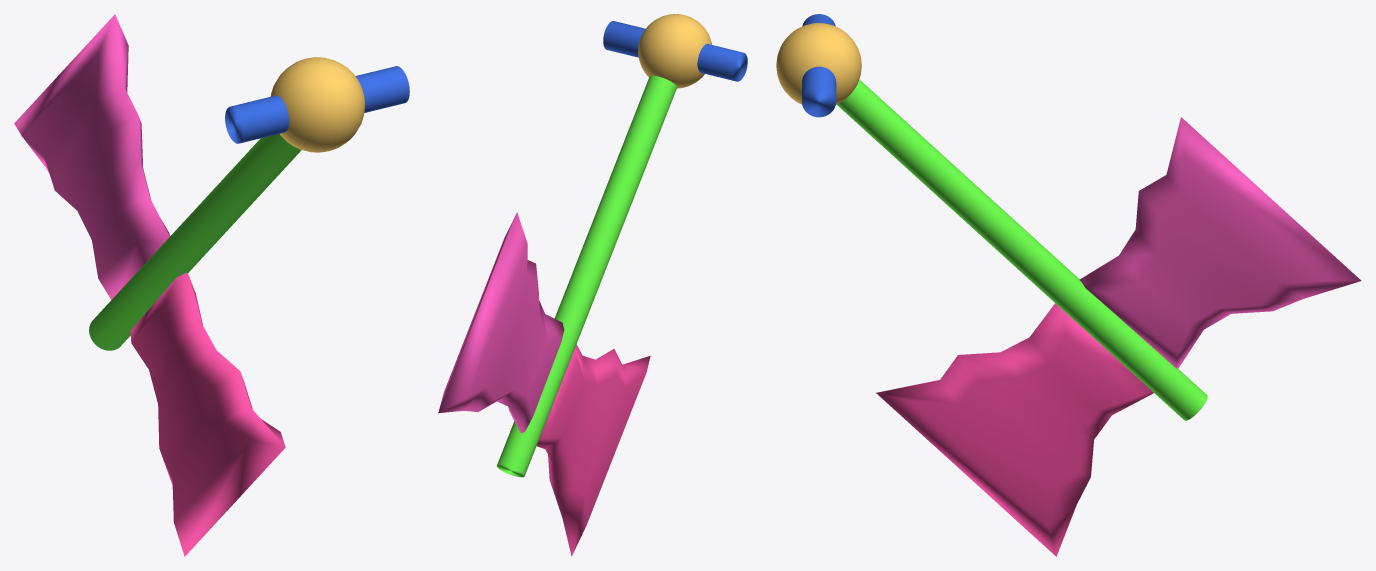
File: pemdulum_blade_axe.fbx
The picture shows the model from 3 angles, left to right: view 1: azimuth 30°, elevation 25°; view 2: azimuth 150°, elevation 25°; view 3: azimuth 270°, elevation 25°; orthographic projection. The views are drawn at different scales.
Parts seen in each view (by area): view 1: Cube, Cube.001, Cylinder, Sphere, Cylinder.001; view 2: Cube, Cube.001, Cylinder, Sphere, Cylinder.001; view 3: Cube, Cube.001, Cylinder, Sphere, Cylinder.001.
Boxes of the visible parts, x1,y1,x2,y2 form: Cube: (14, 14, 170, 299); Cube.001: (130, 272, 285, 556); Cylinder: (89, 134, 301, 350); Sphere: (270, 57, 365, 152); Cylinder.001: (225, 66, 409, 143); Cube: (438, 212, 564, 433); Cube.001: (536, 344, 650, 556); Cylinder: (497, 75, 677, 477); Sphere: (638, 14, 711, 88); Cylinder.001: (603, 21, 747, 81); Cube: (1079, 117, 1361, 368); Cube.001: (876, 303, 1153, 556); Cylinder: (836, 79, 1207, 420); Sphere: (776, 23, 861, 104); Cylinder.001: (802, 14, 836, 117).
Size of the model in its own units: 200 by 683 by 684.
